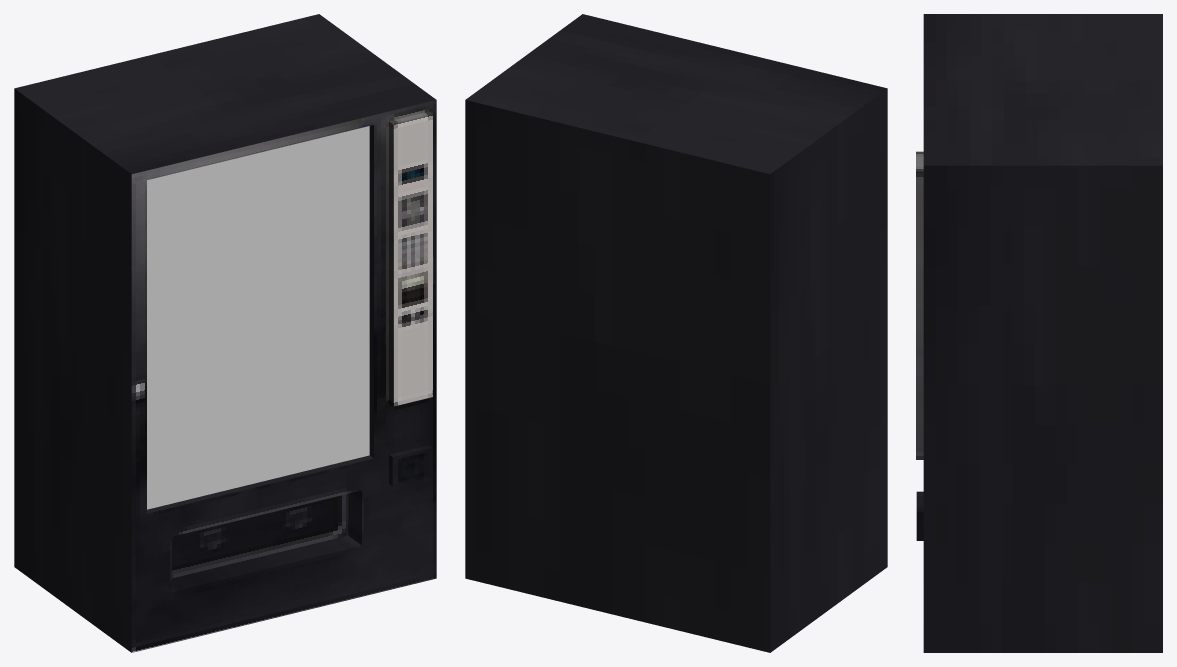
The model's file is Vending Machine.glb.
The picture shows the model from 3 angles, left to right: view 1: azimuth 30°, elevation 25°; view 2: azimuth 150°, elevation 25°; view 3: azimuth 270°, elevation 25°; orthographic projection.
Parts seen in each view (by area): view 1: VendingMachine; view 2: VendingMachine; view 3: VendingMachine.
Part boxes in pixels (x1=…): VendingMachine: x1=14, y1=14, x2=436, y2=652; VendingMachine: x1=465, y1=14, x2=887, y2=652; VendingMachine: x1=916, y1=14, x2=1162, y2=652.
Size of the model in its own units: 1.2 by 1.8 by 0.8256.
2 materials, 1 textured.
